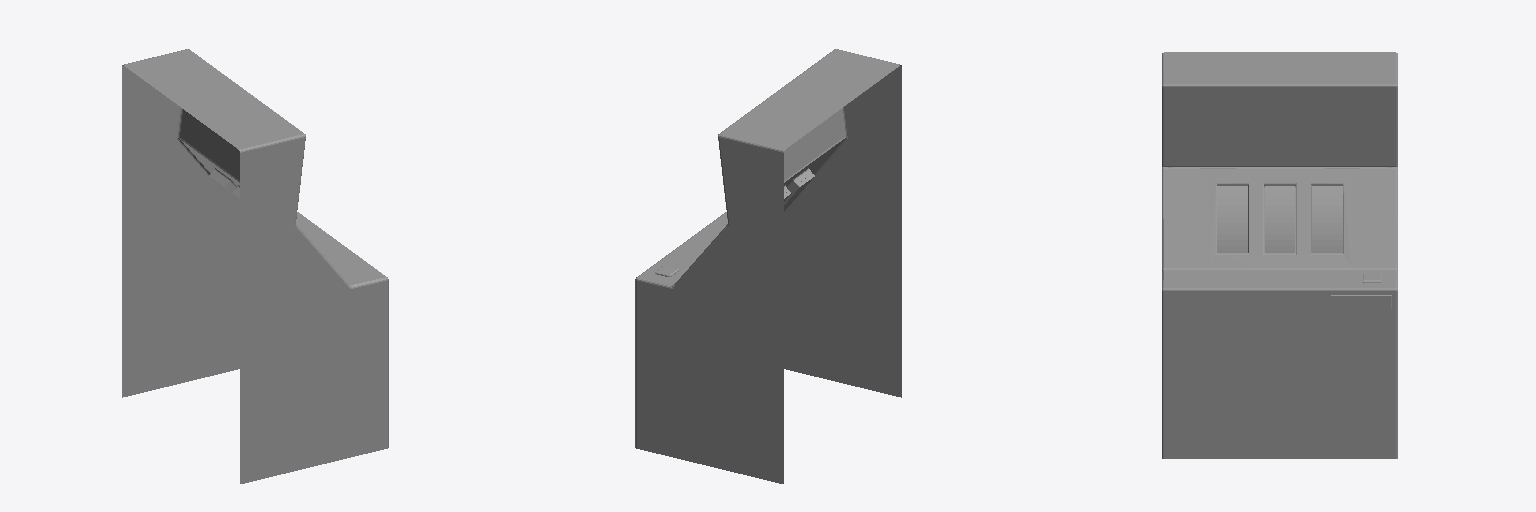
The picture shows the model from 3 angles: view 1: azimuth 30°, elevation 25°; view 2: azimuth 150°, elevation 25°; view 3: azimuth 270°, elevation 25°; orthographic projection.
Parts seen in each view (by area): view 1: Machine_Body; view 2: Machine_Body; view 3: Machine_Body, Reel3, Reel1, Reel2.
Part boxes in pixels (x1,y1,x2,y2): Machine_Body: (122, 49, 388, 483); Machine_Body: (635, 49, 901, 483); Machine_Body: (1162, 52, 1397, 458); Reel3: (1312, 186, 1342, 252); Reel1: (1217, 186, 1247, 252); Reel2: (1265, 186, 1294, 252).
Bounding box in the file's own units: 1.47 × 3.11 × 2.